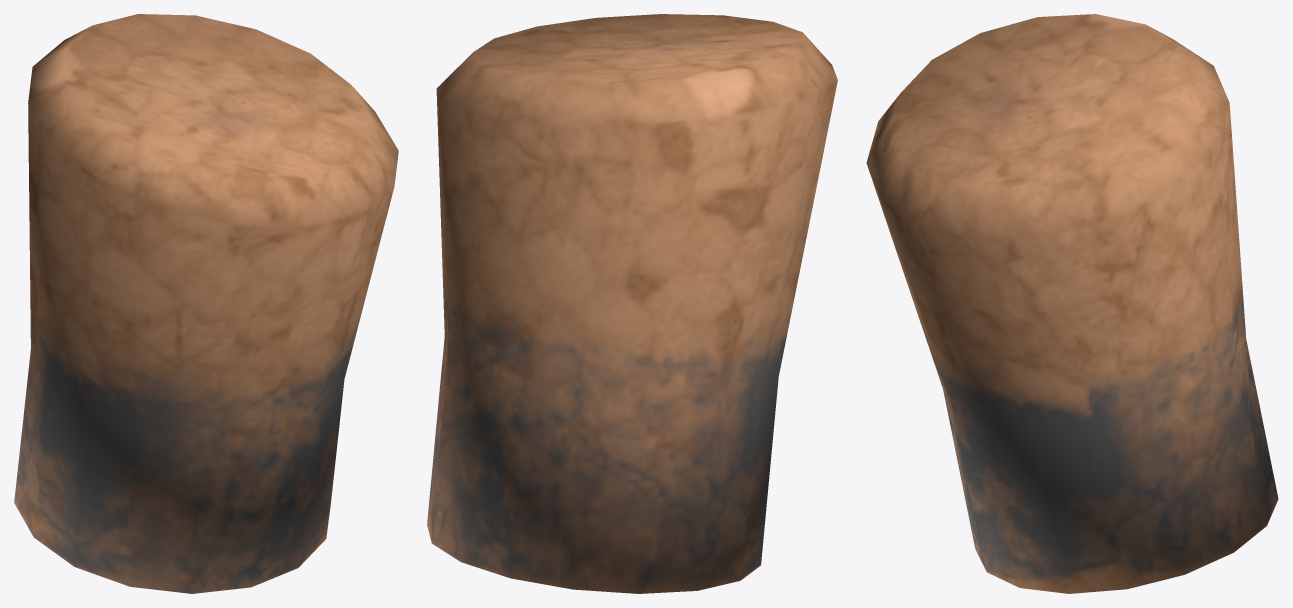
The model's file is Potion_Cork.fbx.
3 renders of one model, left to right at view 1: azimuth 30°, elevation 25°; view 2: azimuth 150°, elevation 25°; view 3: azimuth 270°, elevation 25°, orthographic. The views are drawn at different scales.
Parts seen in each view (by area): view 1: potion.001; view 2: potion.001; view 3: potion.001.
Boxes of the visible parts, box(x1,y1,x2,y2) form: potion.001: box(14, 14, 398, 593); potion.001: box(427, 14, 837, 593); potion.001: box(866, 14, 1278, 593).
Size of the model in its own units: 3.67 by 3.25 by 4.72.
